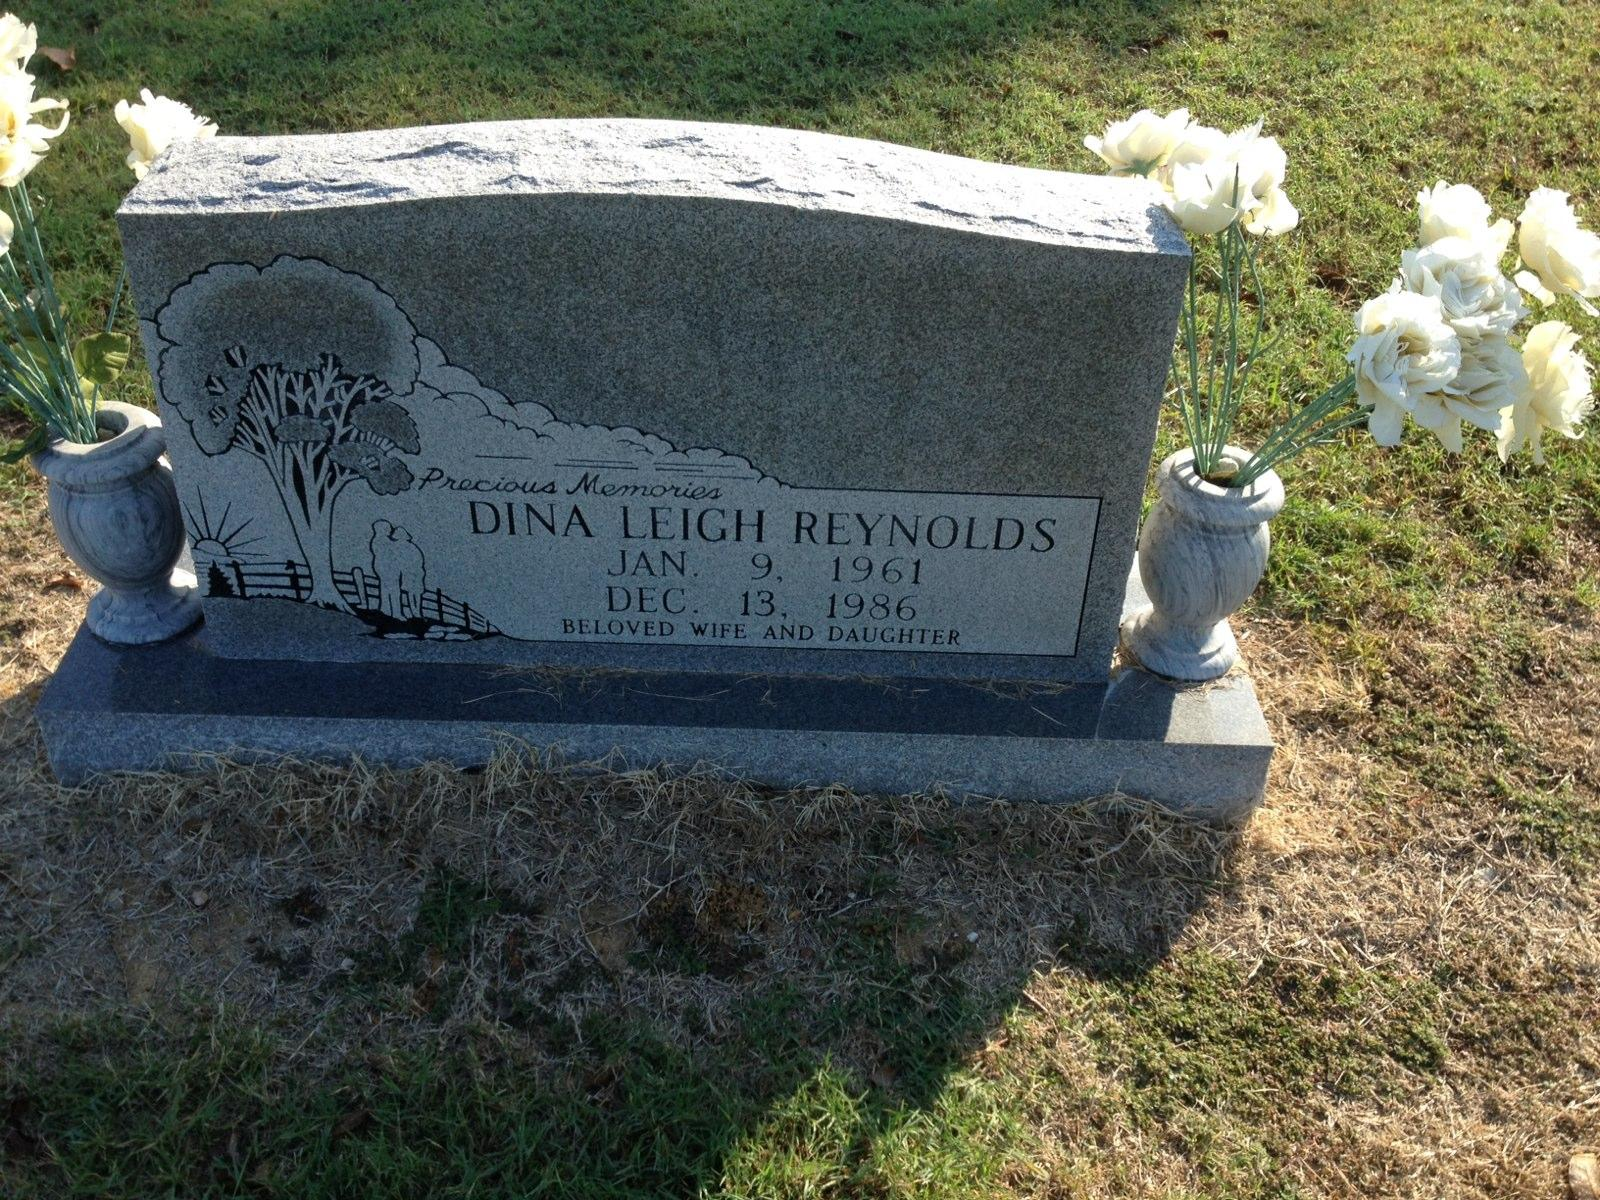upright: (37, 120, 1280, 834)
